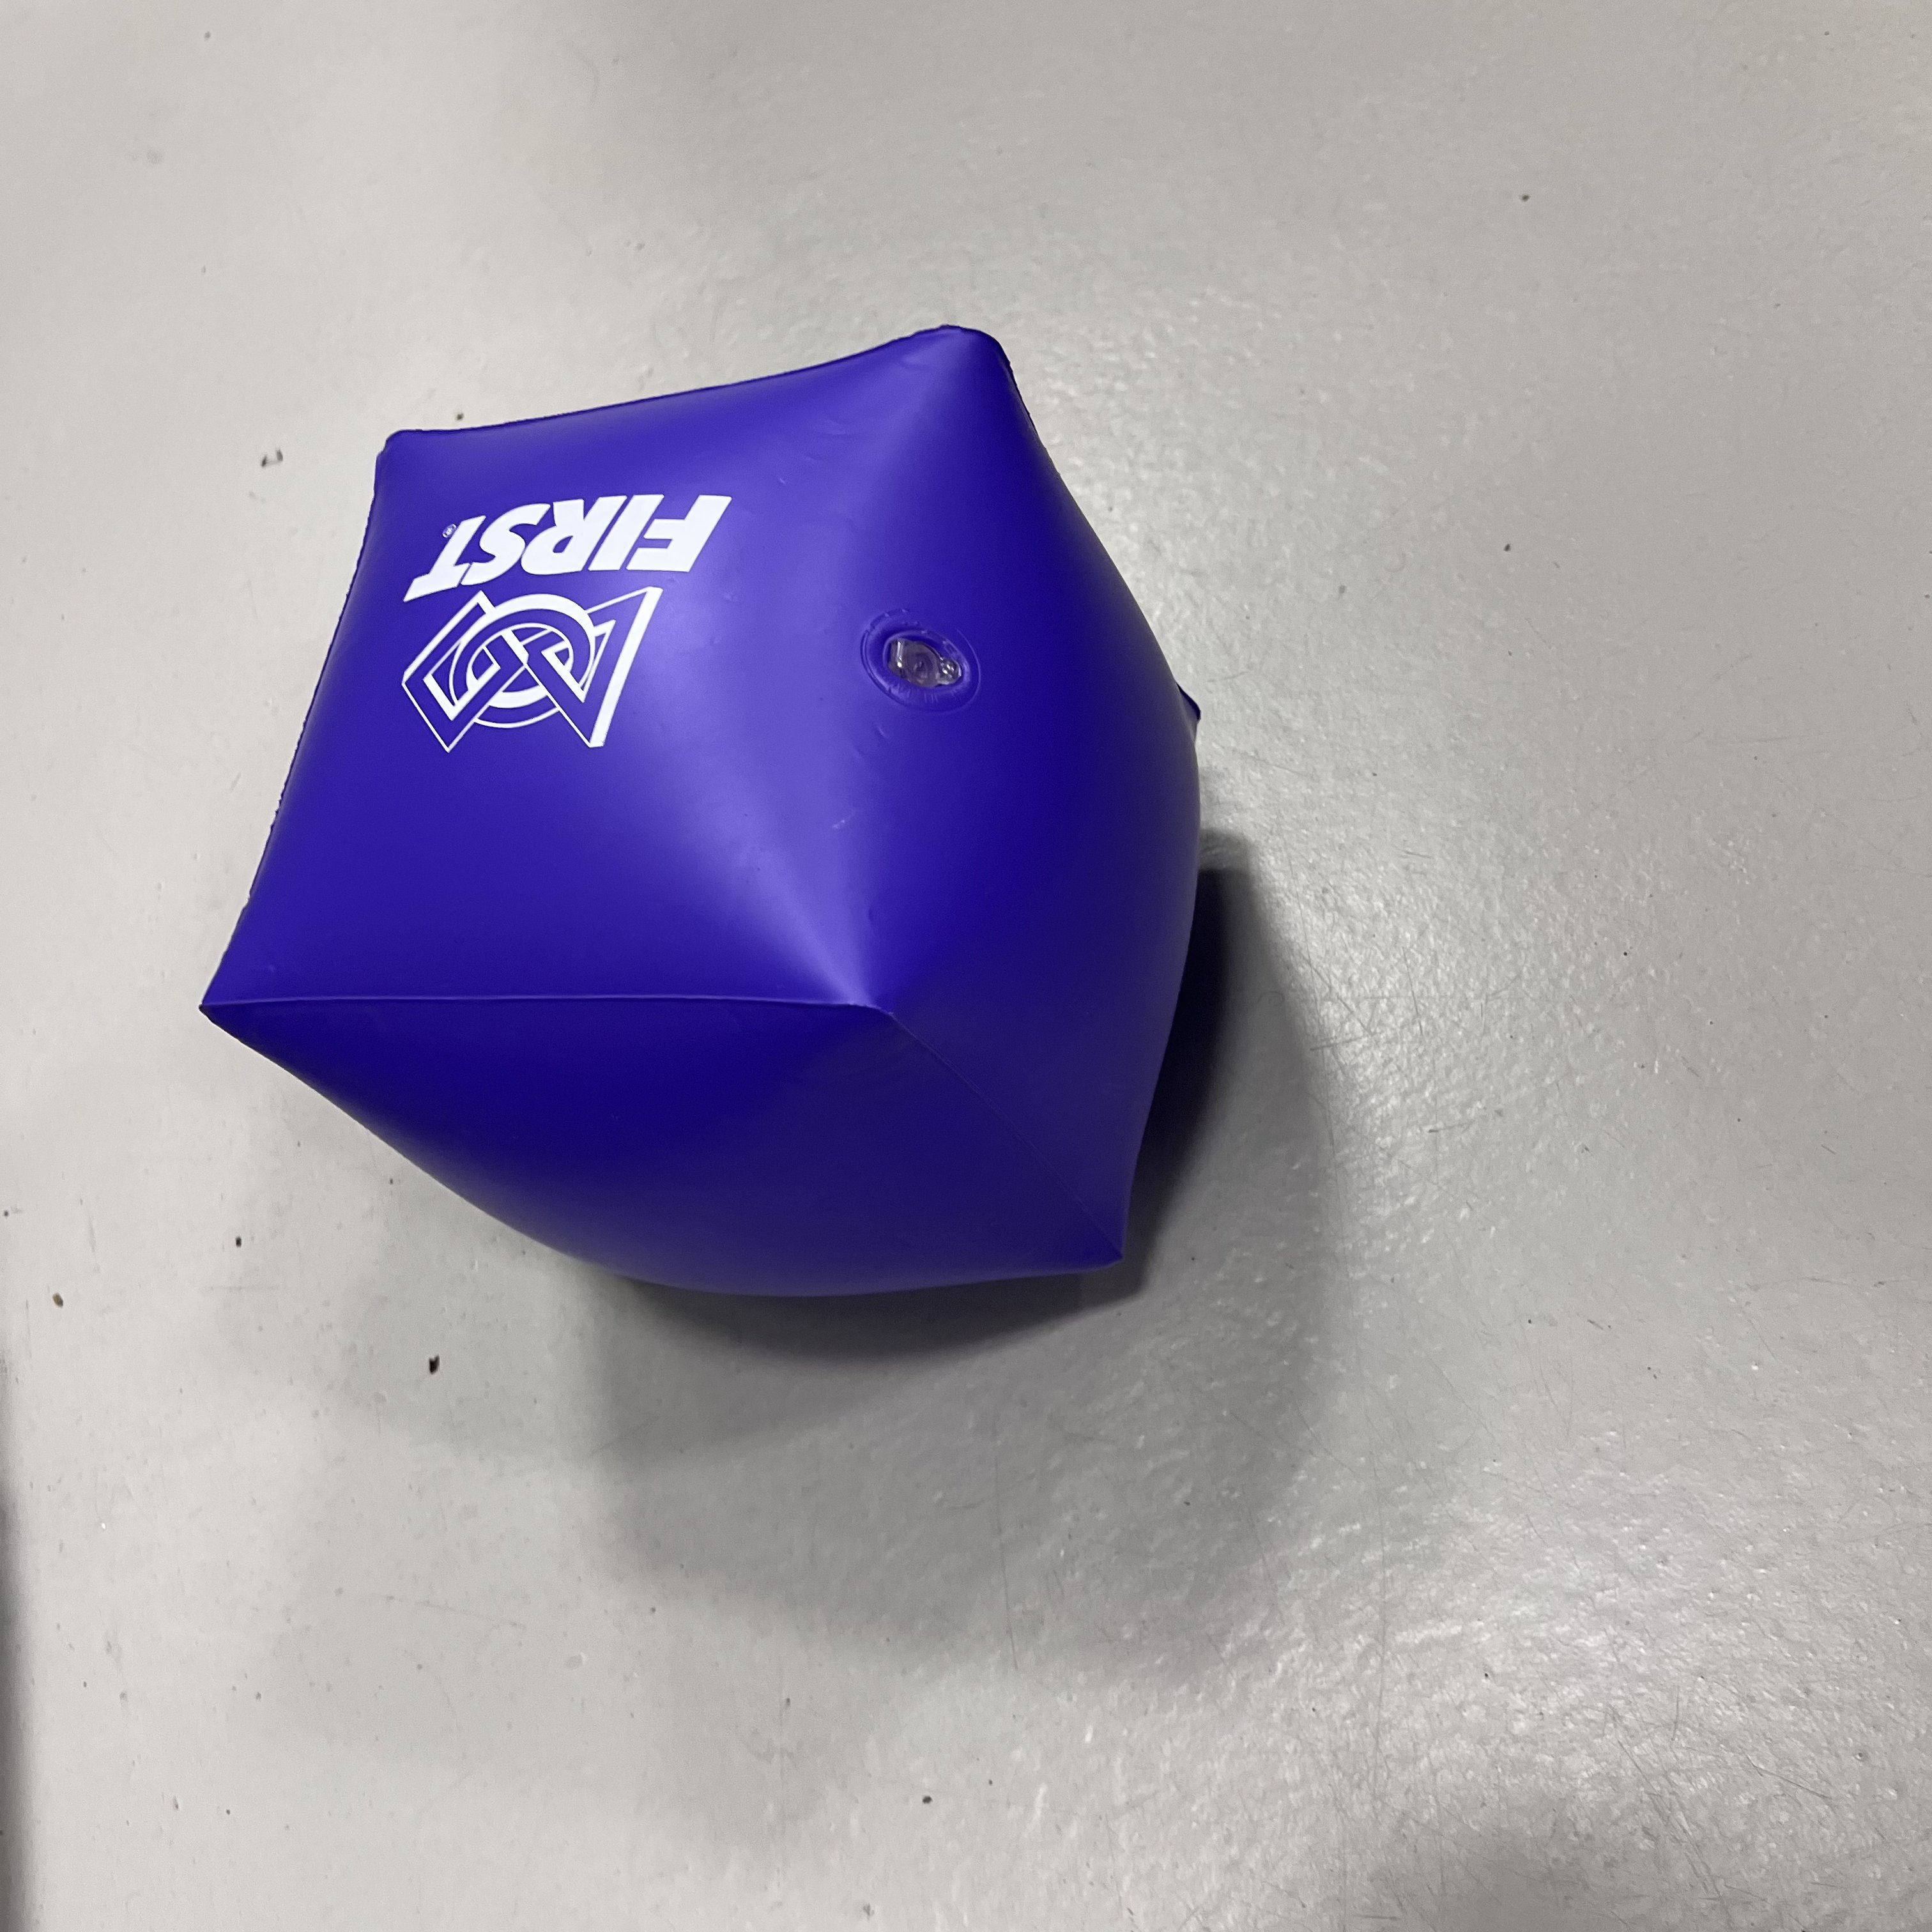cube: (202, 322, 1201, 1297)
